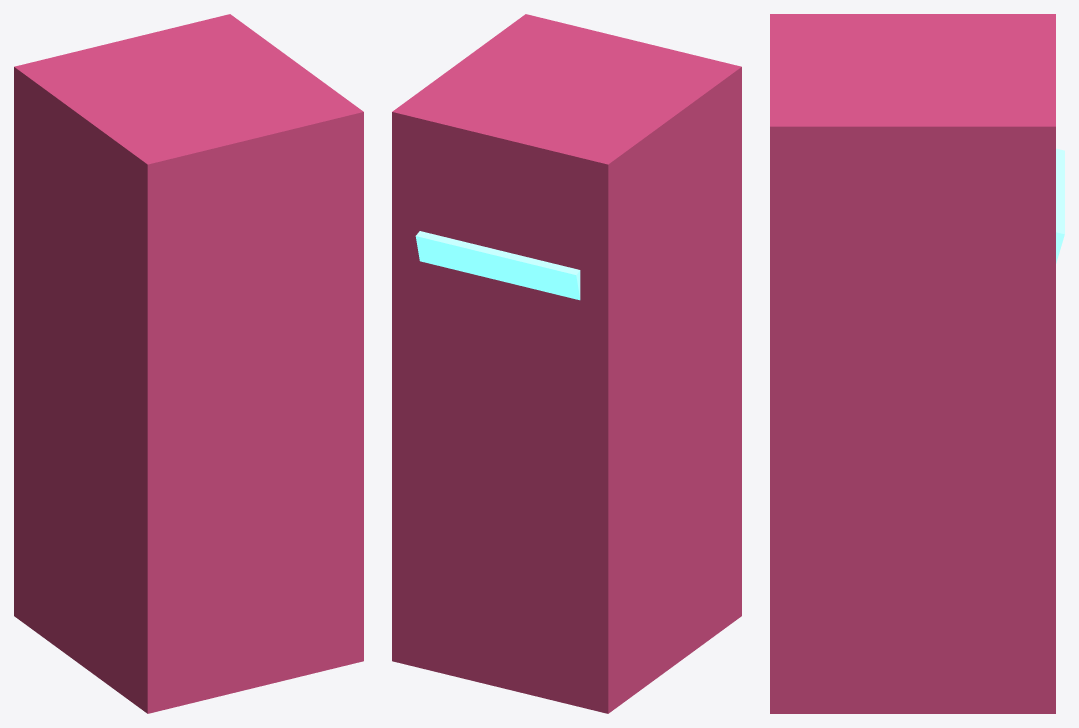
The model's file is arcade_game_cabinet.glb.
3 views of the same model, side by side, from view 1: azimuth 30°, elevation 25°; view 2: azimuth 150°, elevation 25°; view 3: azimuth 270°, elevation 25° (orthographic). The views are drawn at different scales.
Visible parts, largest first — view 1: Cube; view 2: Cube, Cube.001; view 3: Cube, Cube.001.
Part boxes in pixels (x1,y1,x2,y2): Cube: (14, 14, 363, 713); Cube: (392, 14, 741, 713); Cube.001: (415, 231, 580, 300); Cube: (770, 14, 1055, 713); Cube.001: (1056, 148, 1064, 263).
Size of the model in its own units: 0.7 by 1.7 by 0.7735.
